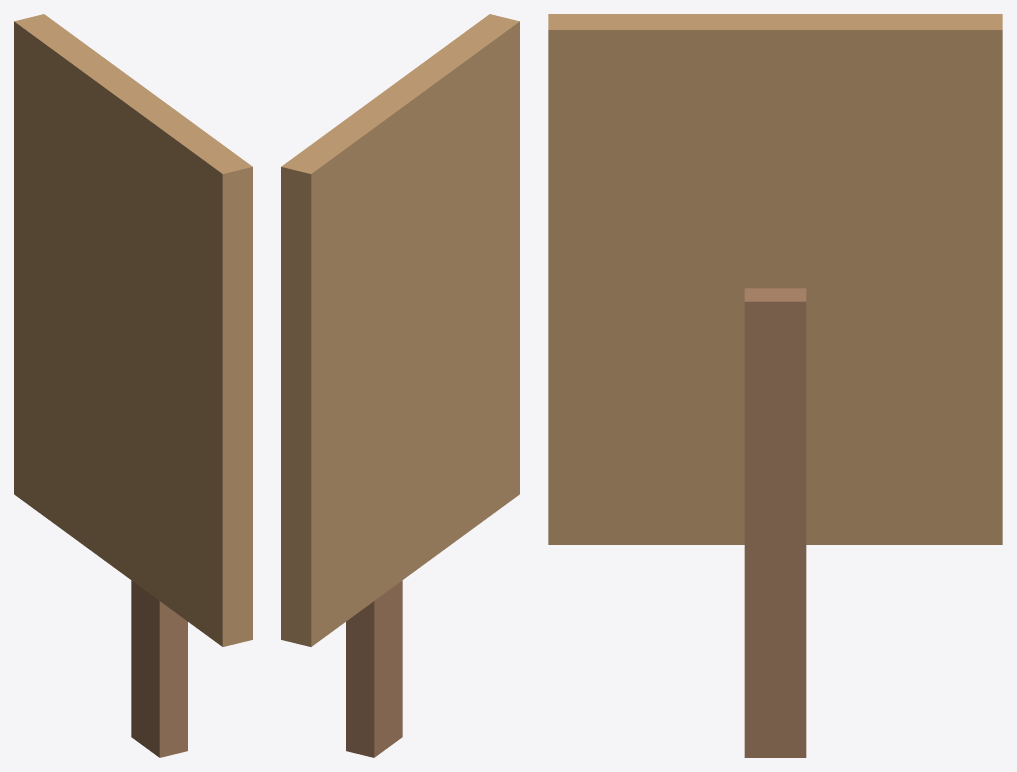
Rendered from Spectator.fbx.
The picture shows the model from 3 angles, left to right: view 1: azimuth 30°, elevation 25°; view 2: azimuth 150°, elevation 25°; view 3: azimuth 270°, elevation 25°; orthographic projection. The views are drawn at different scales.
Visible parts, largest first — view 1: Cardboard, Pole; view 2: Cardboard, Pole; view 3: Cardboard, Pole.
Part boxes in pixels (x1=…): Cardboard: x1=14, y1=14, x2=252, y2=646; Pole: x1=131, y1=580, x2=187, y2=757; Cardboard: x1=281, y1=14, x2=519, y2=646; Pole: x1=346, y1=580, x2=402, y2=757; Cardboard: x1=548, y1=14, x2=1002, y2=544; Pole: x1=744, y1=288, x2=806, y2=757.
Size of the model in its own units: 36.74 by 416 by 240.
